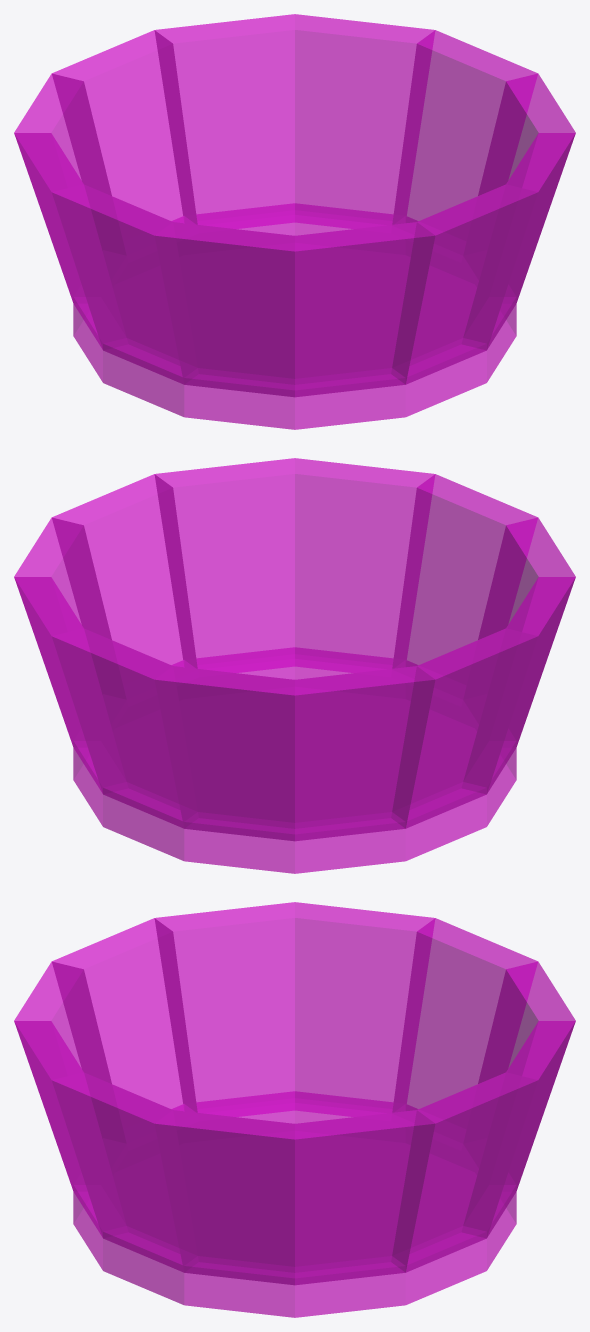
Rendered from SM_Veh_Ship_L_Mast_Middle_02_Crows_Nest_01_Collision.fbx.
3 renders of one model, top to bottom at view 1: azimuth 30°, elevation 25°; view 2: azimuth 150°, elevation 25°; view 3: azimuth 270°, elevation 25°, orthographic.
Visible parts, largest first — view 1: SM_Veh_Ship_L_Mast_Middle_02_Crows_Nest_01_Collision; view 2: SM_Veh_Ship_L_Mast_Middle_02_Crows_Nest_01_Collision; view 3: SM_Veh_Ship_L_Mast_Middle_02_Crows_Nest_01_Collision.
Part boxes in pixels (bbox=[...]): SM_Veh_Ship_L_Mast_Middle_02_Crows_Nest_01_Collision: bbox=[14, 14, 575, 429]; SM_Veh_Ship_L_Mast_Middle_02_Crows_Nest_01_Collision: bbox=[14, 458, 575, 873]; SM_Veh_Ship_L_Mast_Middle_02_Crows_Nest_01_Collision: bbox=[14, 902, 575, 1317].
Size of the model in its own units: 273 by 109 by 273.
